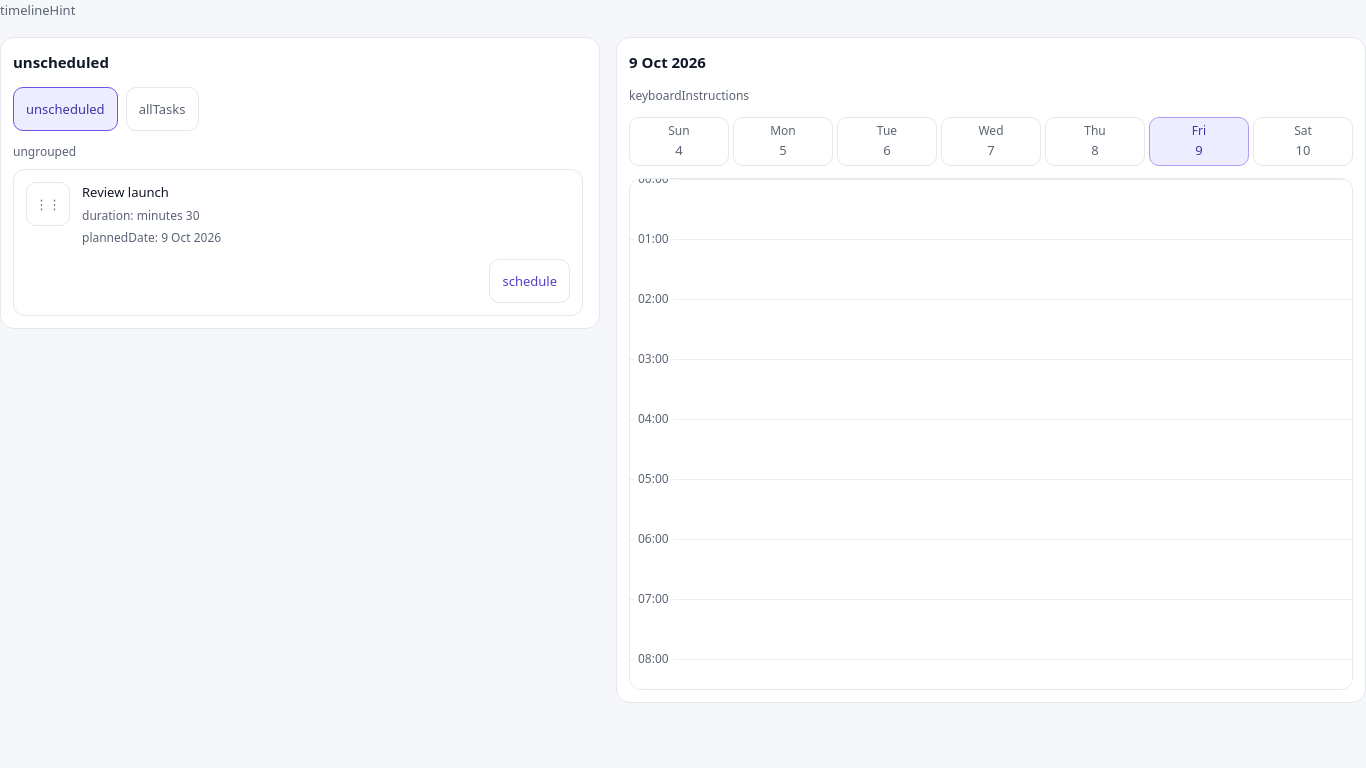
Test: TimelineBoard › does not report an in-flight schedule as uncertain
Click the button with aria-label "schedule: Review launch". click: (530, 281)
box: [489,259,570,303]
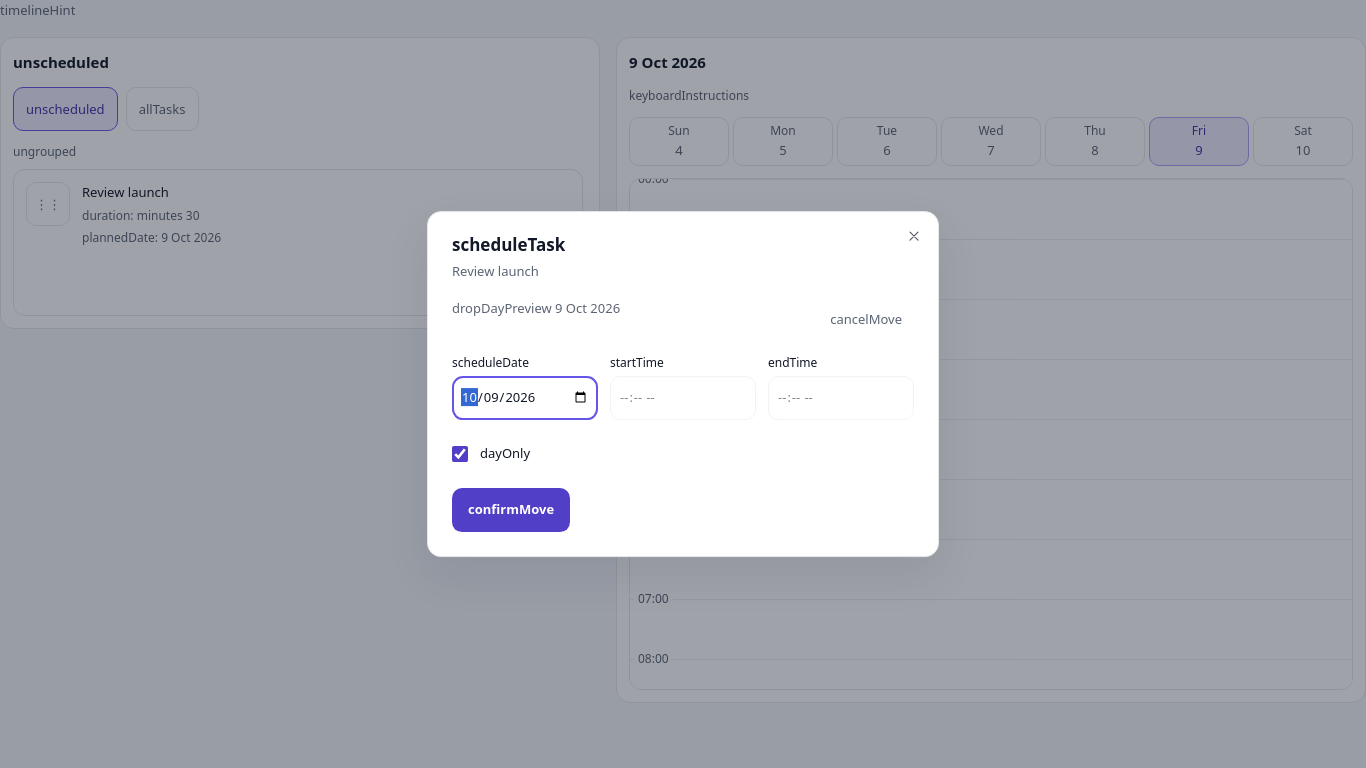
Click the button "confirmMove". click: (511, 510)
box: [452,488,570,532]
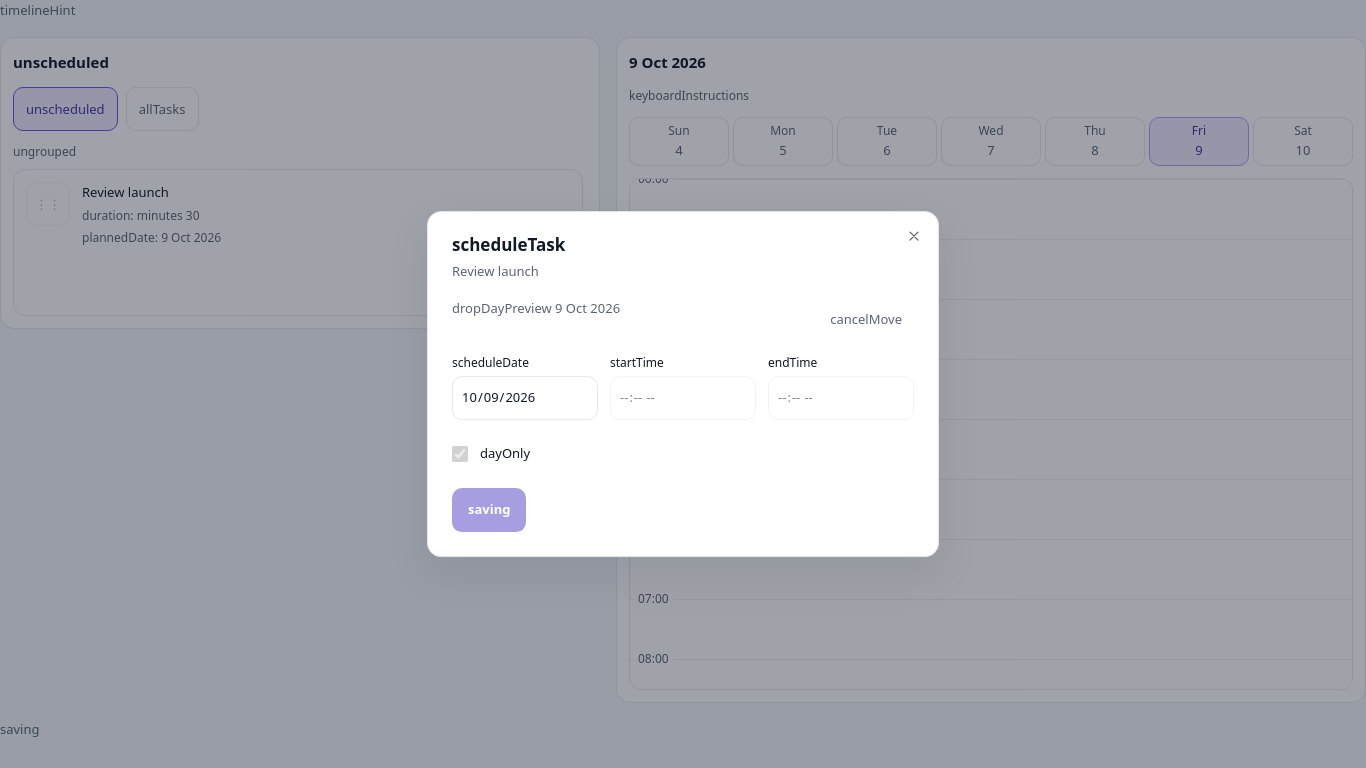
Check: the button "saving" is disabled, box [452,488,526,532]
